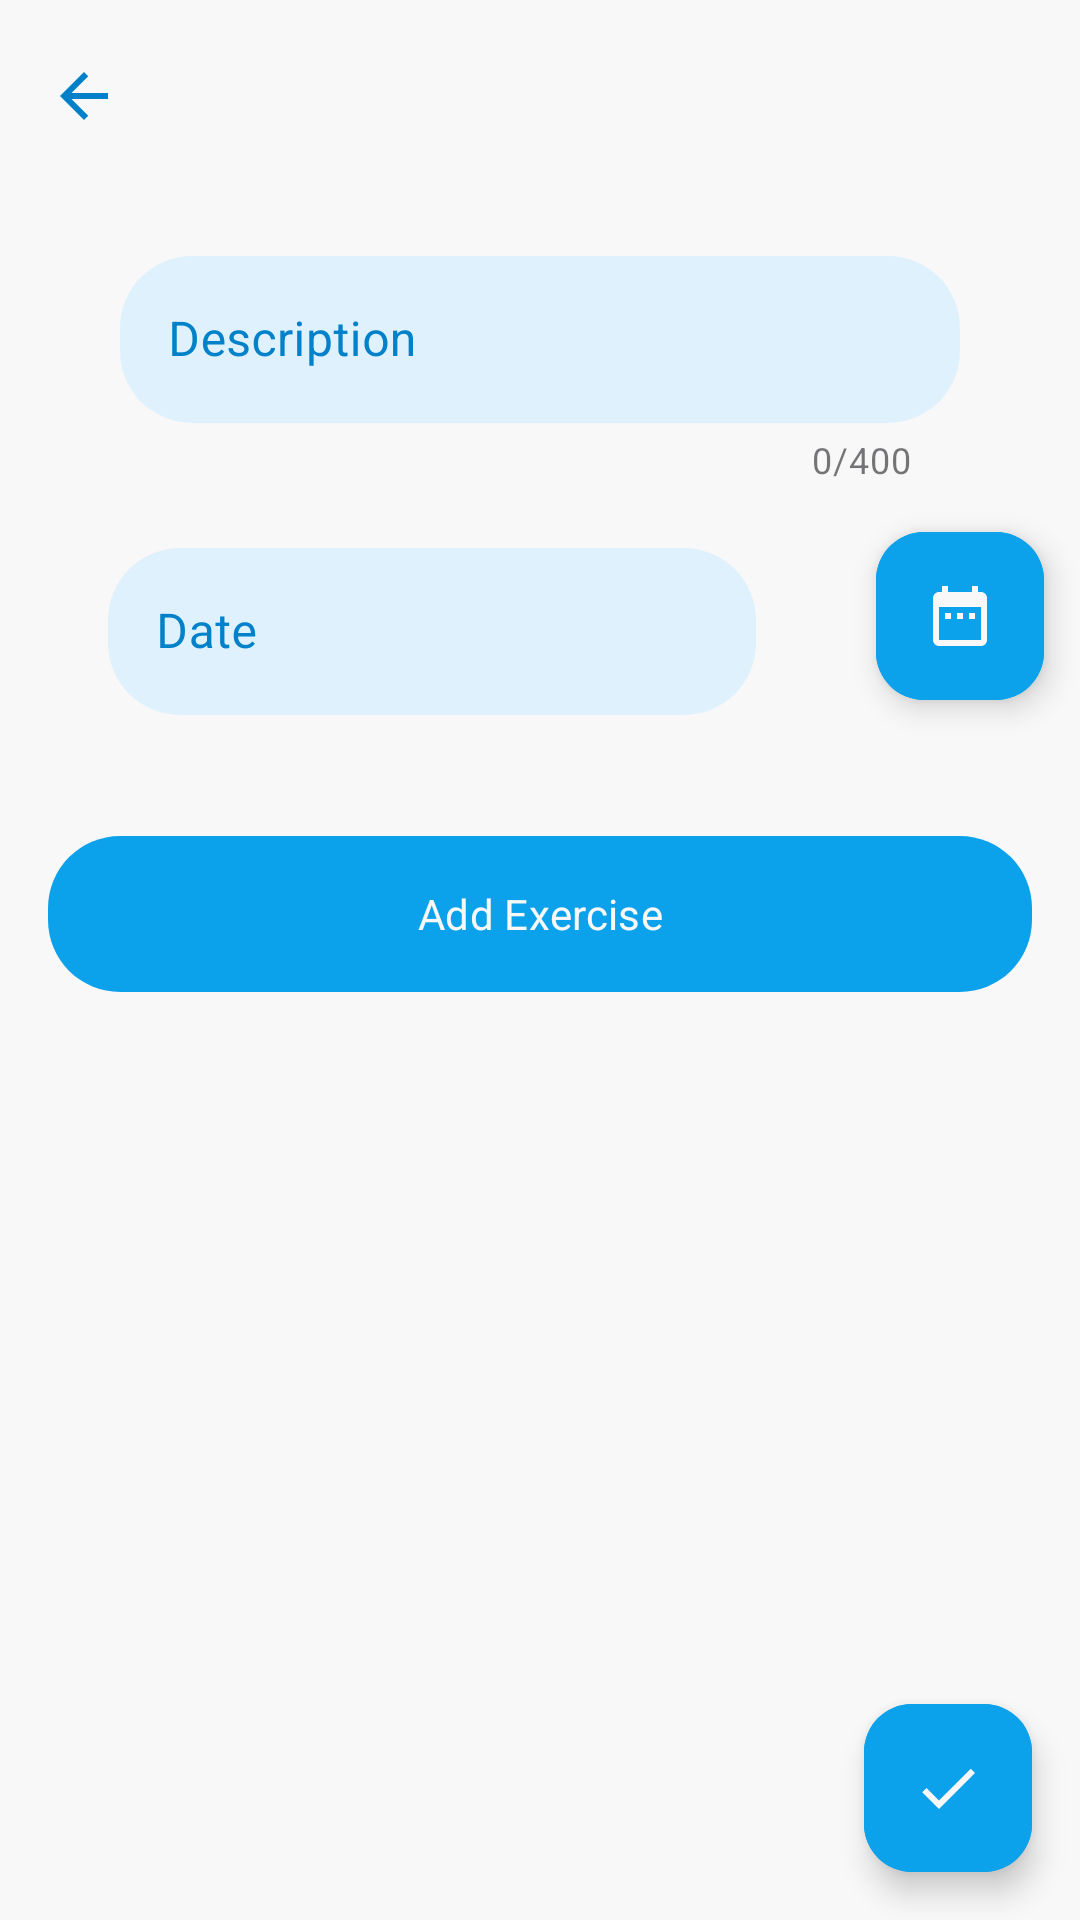

Where to tap for icons on this 1080px×1920px app screen, as [x,y]:
confirm: [948,1788]
